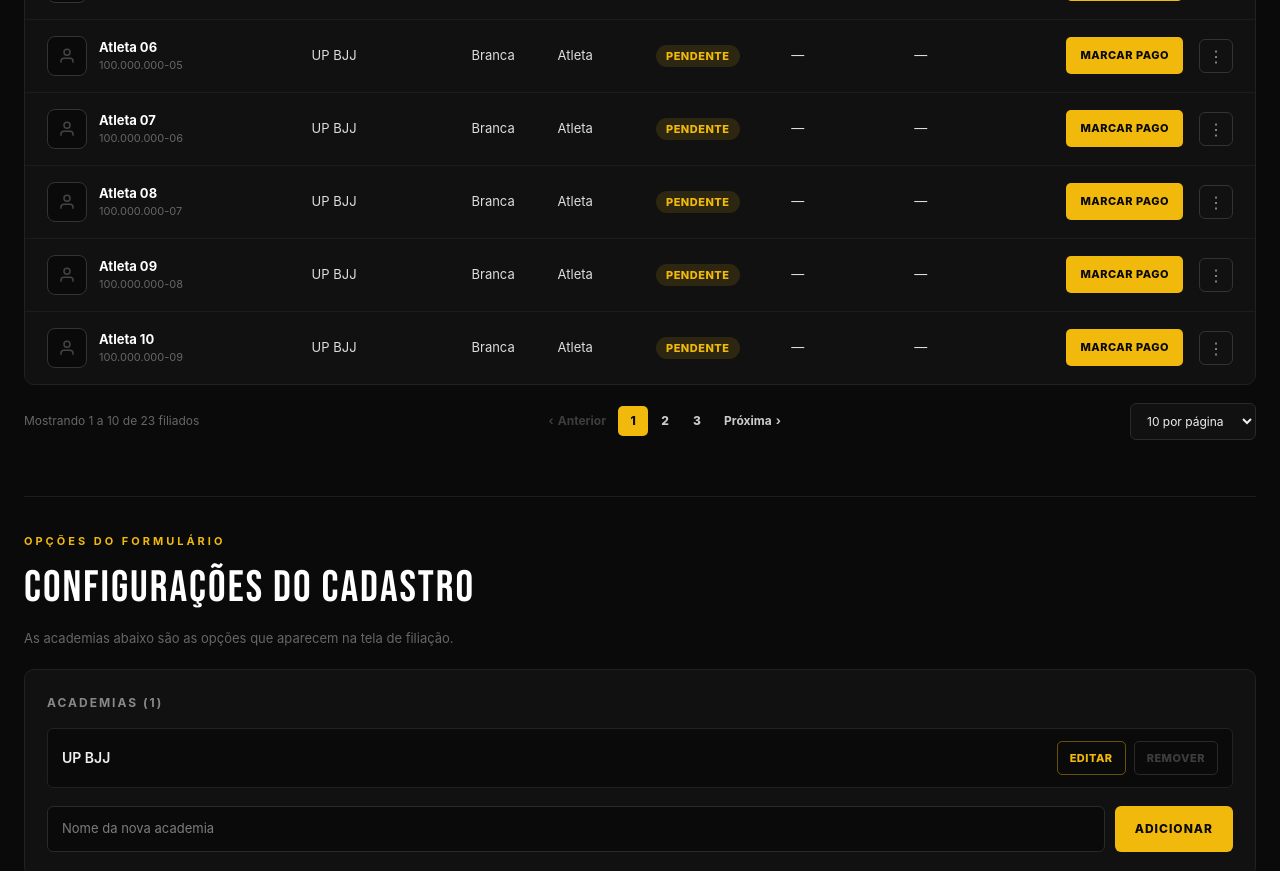
Test: Admin — paginação (desktop) › deixa 'Próxima' sem ação na última página, que pode vir incompleta
(page scrolled)
Click the button named "Página 3". click: click(697, 421)
box: [682, 406, 712, 436]
(page scrolled)
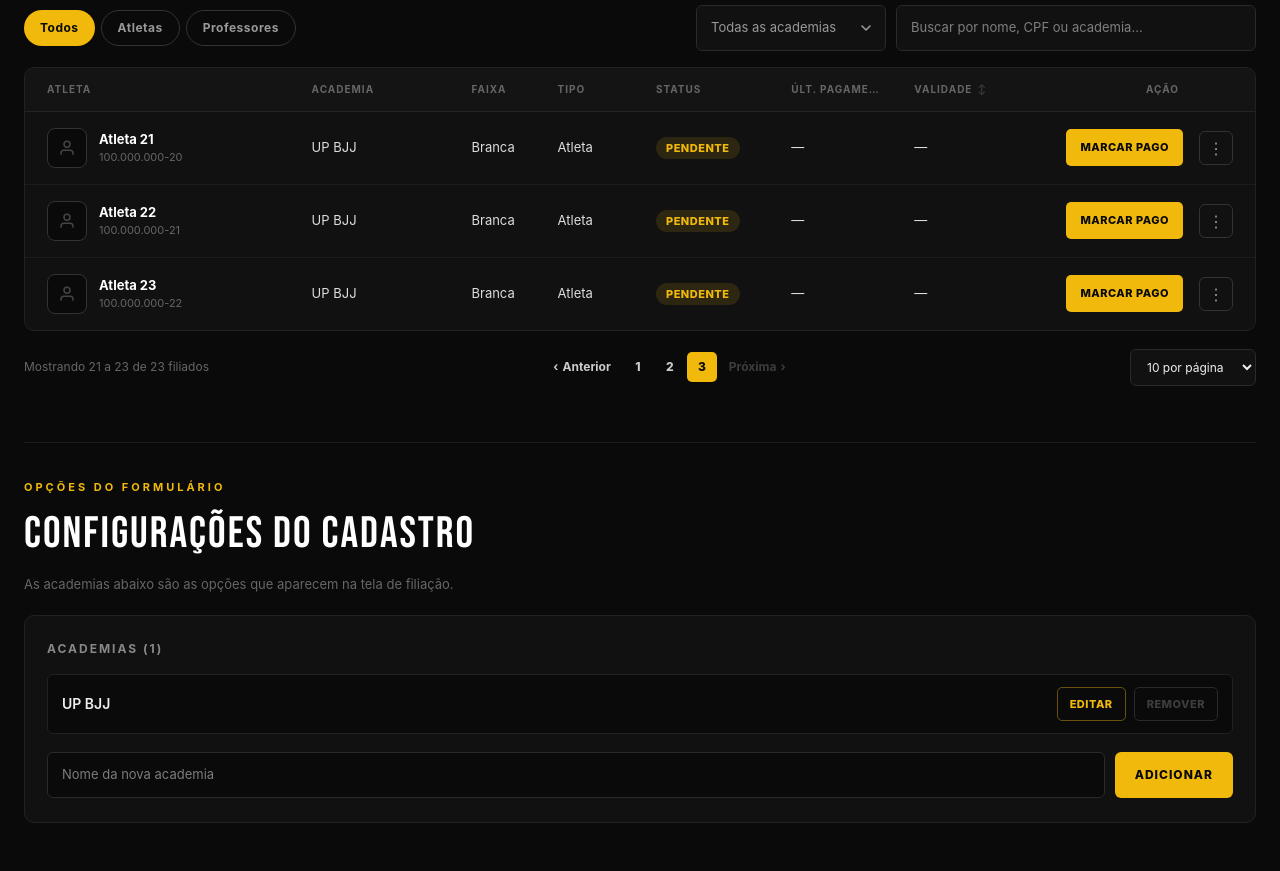
expect the text "Mostrando 21 a 23 de 23 filiados" is shown: met, box [24, 358, 209, 376]
expect the button with aria-label "próxima página" is disabled: met, box [719, 350, 796, 384]
expect the button with aria-label "página anterior" is enabled: met, box [543, 350, 621, 384]
